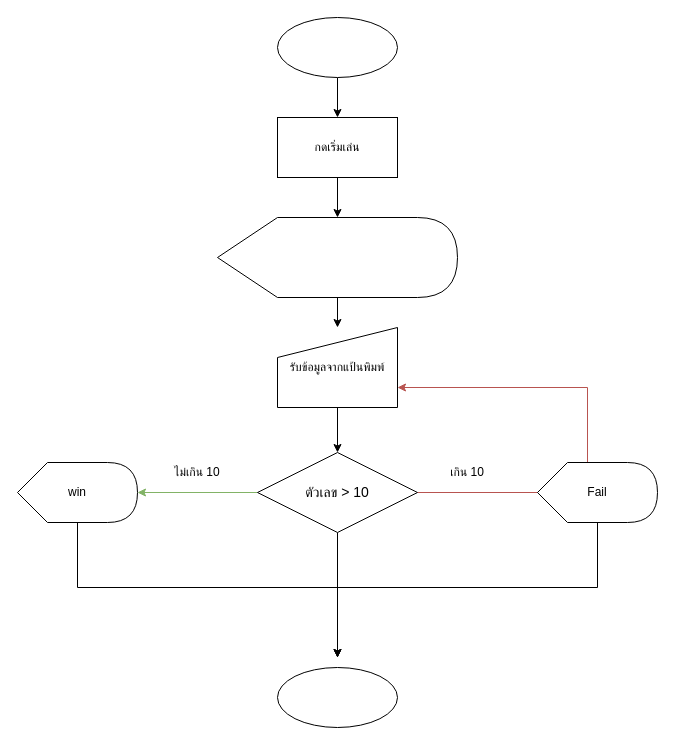
This 675x745 diagram has some shape labels left out. The shapes that lost their labels are listed below. From the top down, each one's centre as x and y in pixels, then its label:
At [337,47]: "STRAT".
At [337,257]: "ทายเลข 1-10 ให้ตรงกับที่โจทย์ตั้งไว้".
At [337,697]: "END".
